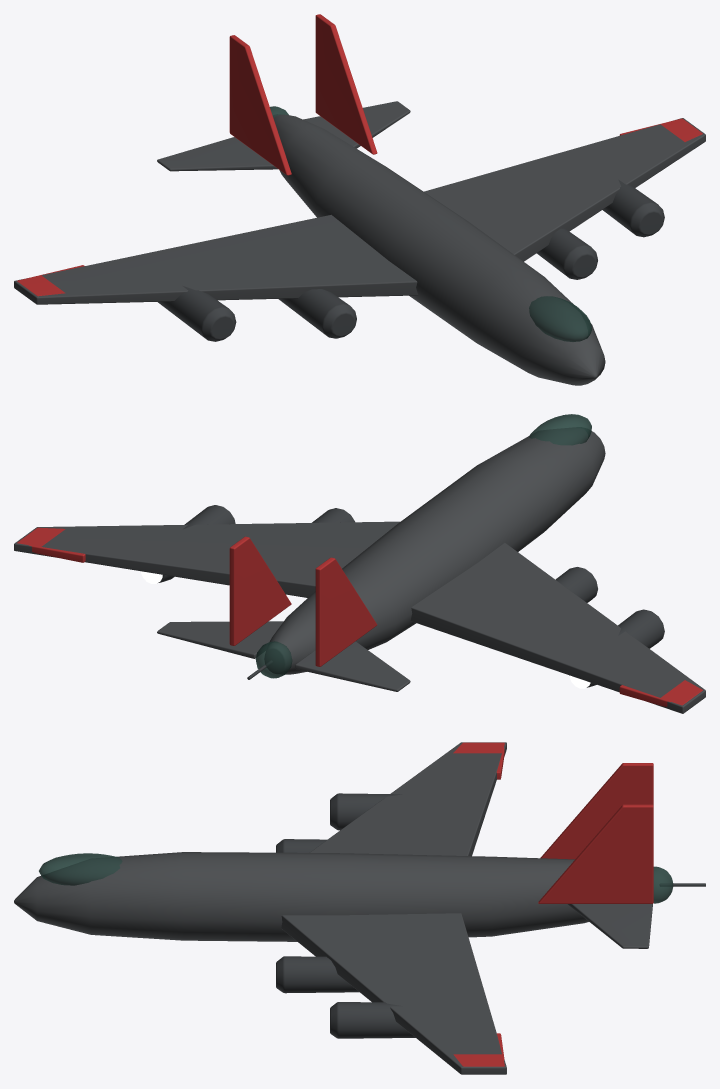
Rendered from NPC_TalonBomber.fbx.
3 views of the same model, one above another, from view 1: azimuth 30°, elevation 25°; view 2: azimuth 150°, elevation 25°; view 3: azimuth 270°, elevation 25° (orthographic).
Parts seen in each view (by area): view 1: Body.002, Markings.001, Trim.002, Canopy.003; view 2: Body.002, Markings.001, Trim.002, Canopy.003; view 3: Body.002, Markings.001, Trim.002, Canopy.003.
Part boxes in pixels (box(x1,y1,x2,y2)): Body.002: box(14, 101, 705, 385); Markings.001: box(17, 14, 702, 296); Trim.002: box(157, 179, 664, 341); Canopy.003: box(270, 106, 591, 341); Body.002: box(14, 427, 705, 713); Markings.001: box(17, 527, 702, 706); Trim.002: box(158, 505, 664, 687); Canopy.003: box(255, 414, 591, 678); Body.002: box(14, 742, 652, 1074); Markings.001: box(453, 742, 653, 1066); Trim.002: box(276, 793, 705, 1038); Canopy.003: box(39, 853, 673, 903).
Bounding box in the file's own units: 50 × 10.81 × 44.9.
